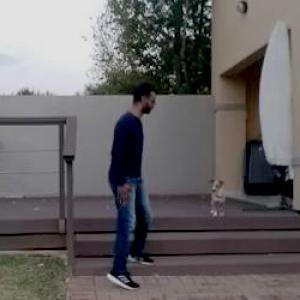follow: (105, 84, 158, 257)
